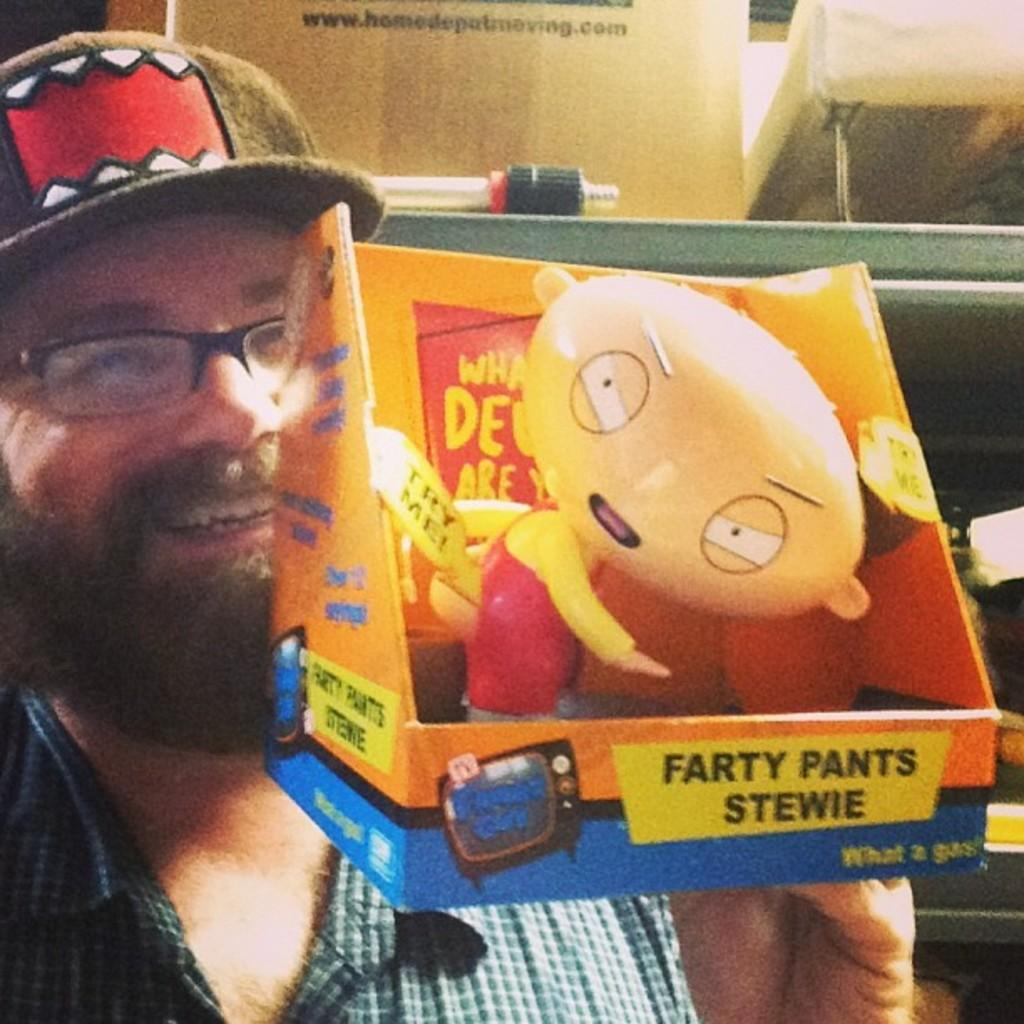Hat: (0, 24, 398, 296)
